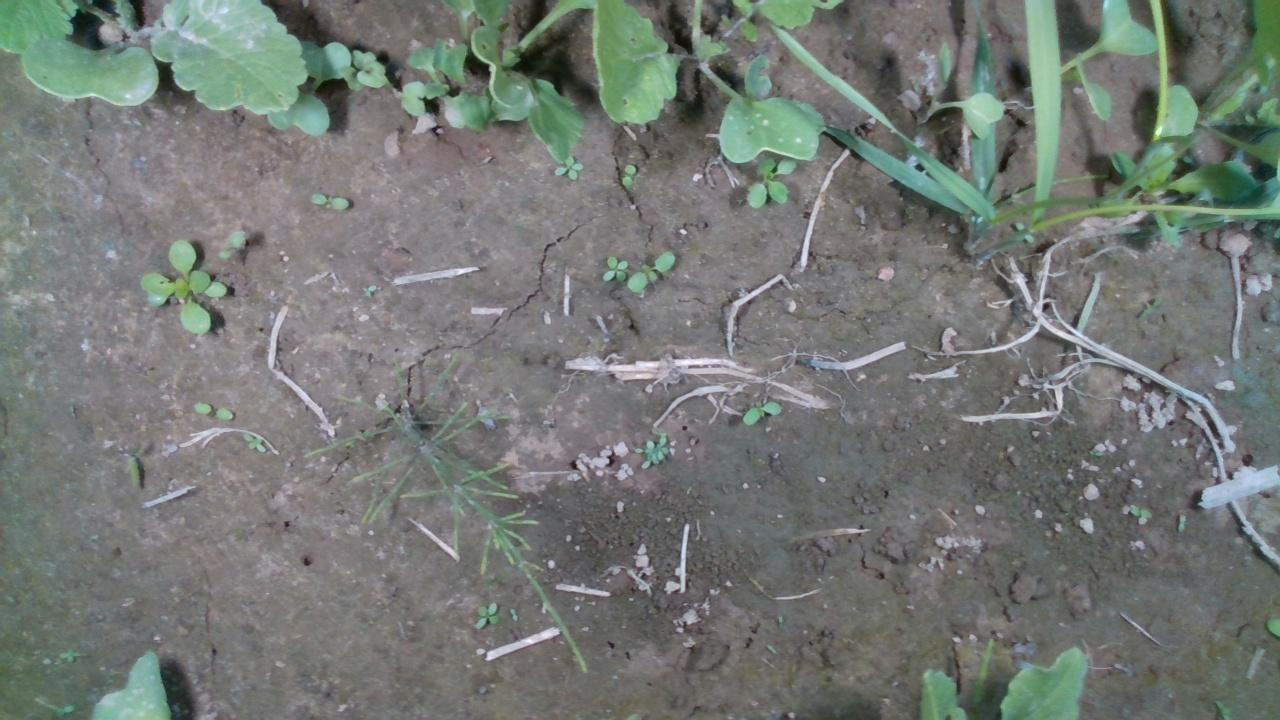weed: (136, 237, 231, 334), (741, 397, 783, 425), (471, 599, 498, 629), (192, 401, 234, 420), (601, 254, 628, 283), (309, 192, 350, 209), (240, 431, 266, 453), (1128, 503, 1154, 518), (620, 161, 635, 186), (1176, 512, 1185, 532), (509, 607, 517, 621)
